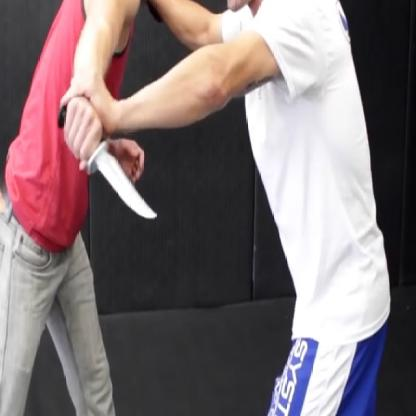knife: (53, 95, 166, 232)
